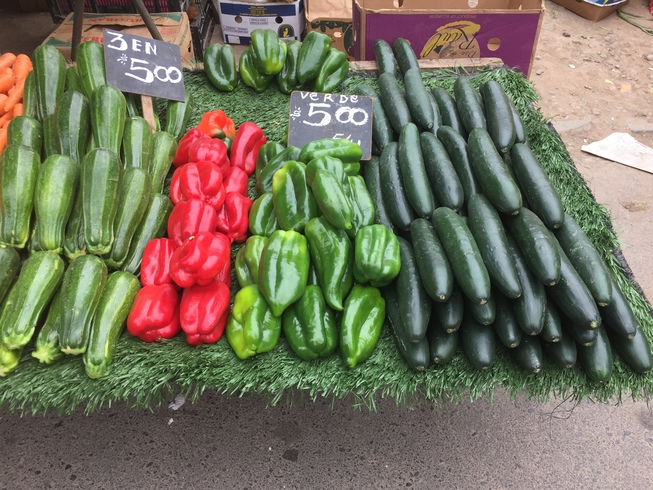precio: (98, 23, 197, 109), (280, 85, 382, 166)
